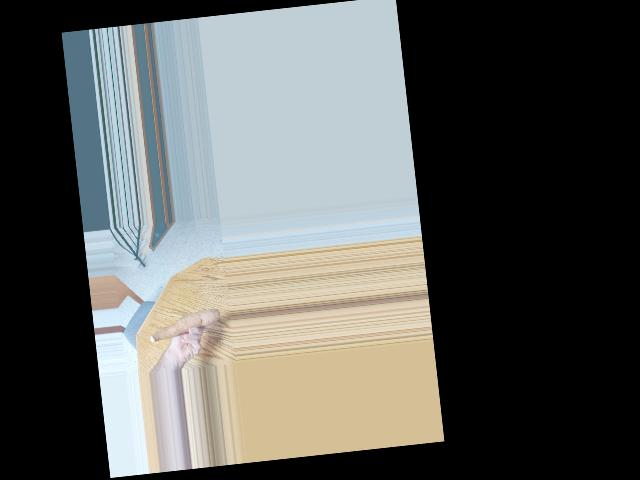sweet_potato: (146, 305, 221, 346)
